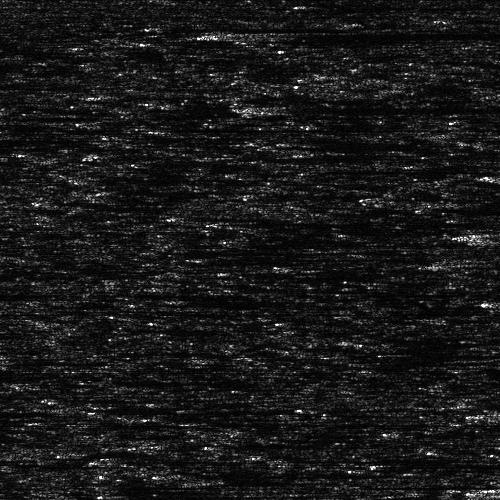rock: (148, 30, 315, 41), (424, 483, 500, 498), (397, 259, 500, 270), (440, 407, 500, 418), (418, 229, 491, 238), (254, 98, 285, 117), (86, 86, 117, 103), (190, 477, 231, 484)
shadow: (270, 98, 500, 117), (232, 30, 500, 41), (102, 86, 176, 103), (0, 134, 91, 145), (211, 477, 296, 484), (455, 259, 500, 270), (455, 229, 500, 238), (0, 84, 27, 87)
